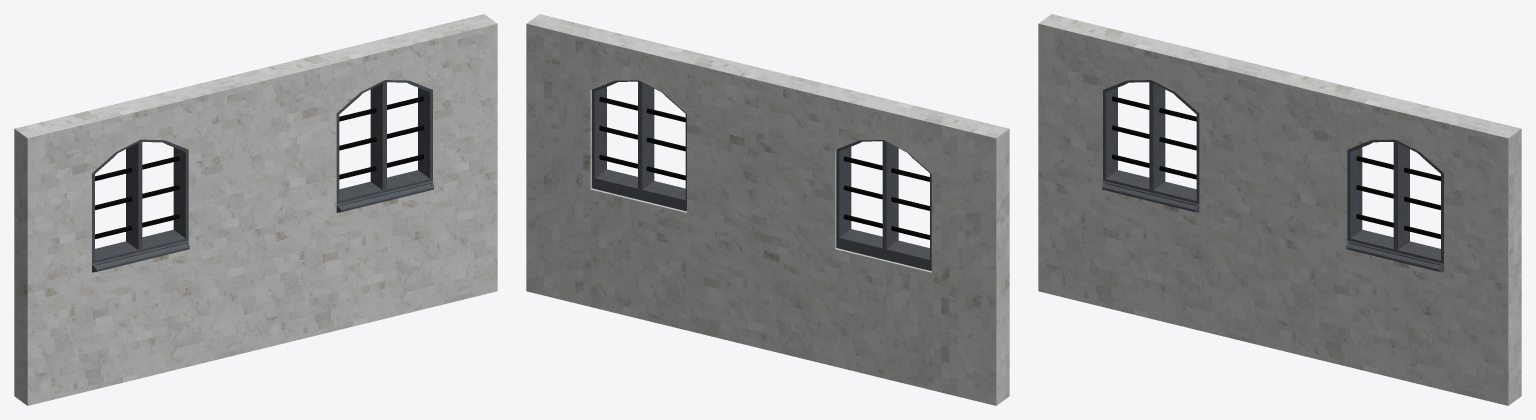
The model's file is WindowedWall.fbx.
3 renders of one model, left to right at view 1: azimuth 30°, elevation 25°; view 2: azimuth 150°, elevation 25°; view 3: azimuth 330°, elevation 25°, orthographic.
Visible parts, largest first — view 1: Wall2, Window.001, Window, WindowSide, WindowSide.001; view 2: Wall2, Window, Window.001, WindowSide.001, WindowSide; view 3: Wall2, Window, Window.001, WindowSide, WindowSide.001.
Part boxes in pixels (x1,y1,x2,y2): Wall2: [14, 14, 497, 405]; Window.001: [336, 80, 433, 212]; Window: [92, 139, 189, 272]; WindowSide: [95, 156, 179, 238]; WindowSide.001: [339, 96, 423, 179]; Wall2: [526, 14, 1009, 405]; Window: [836, 140, 931, 270]; Window.001: [592, 80, 686, 211]; WindowSide.001: [599, 96, 685, 180]; WindowSide: [843, 156, 929, 239]; Wall2: [1038, 14, 1521, 405]; Window: [1102, 80, 1199, 212]; Window.001: [1346, 139, 1443, 272]; WindowSide: [1112, 96, 1196, 179]; WindowSide.001: [1356, 156, 1440, 238].
Bounding box in the file's own units: 738 × 402 × 44.49.
